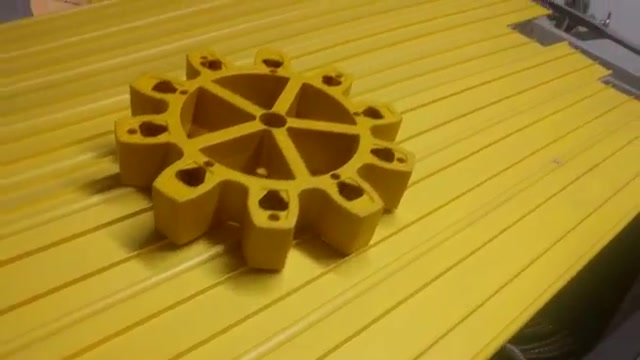gear: (97, 32, 426, 296)
